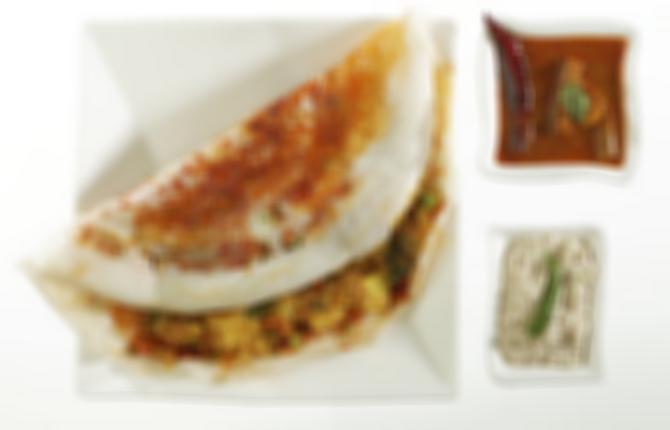dosa: (36, 16, 459, 392)
